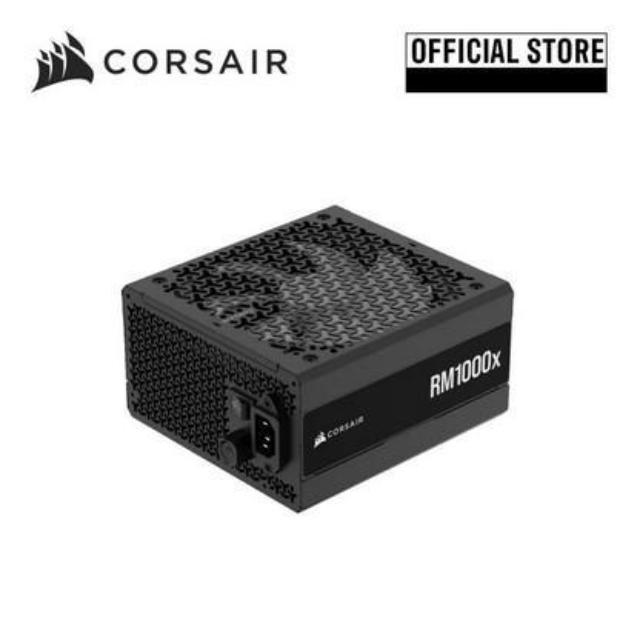PSU: (93, 182, 538, 520)
